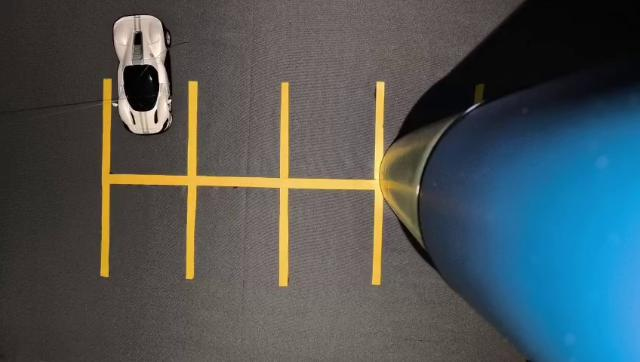toy_car: (91, 0, 194, 138)
